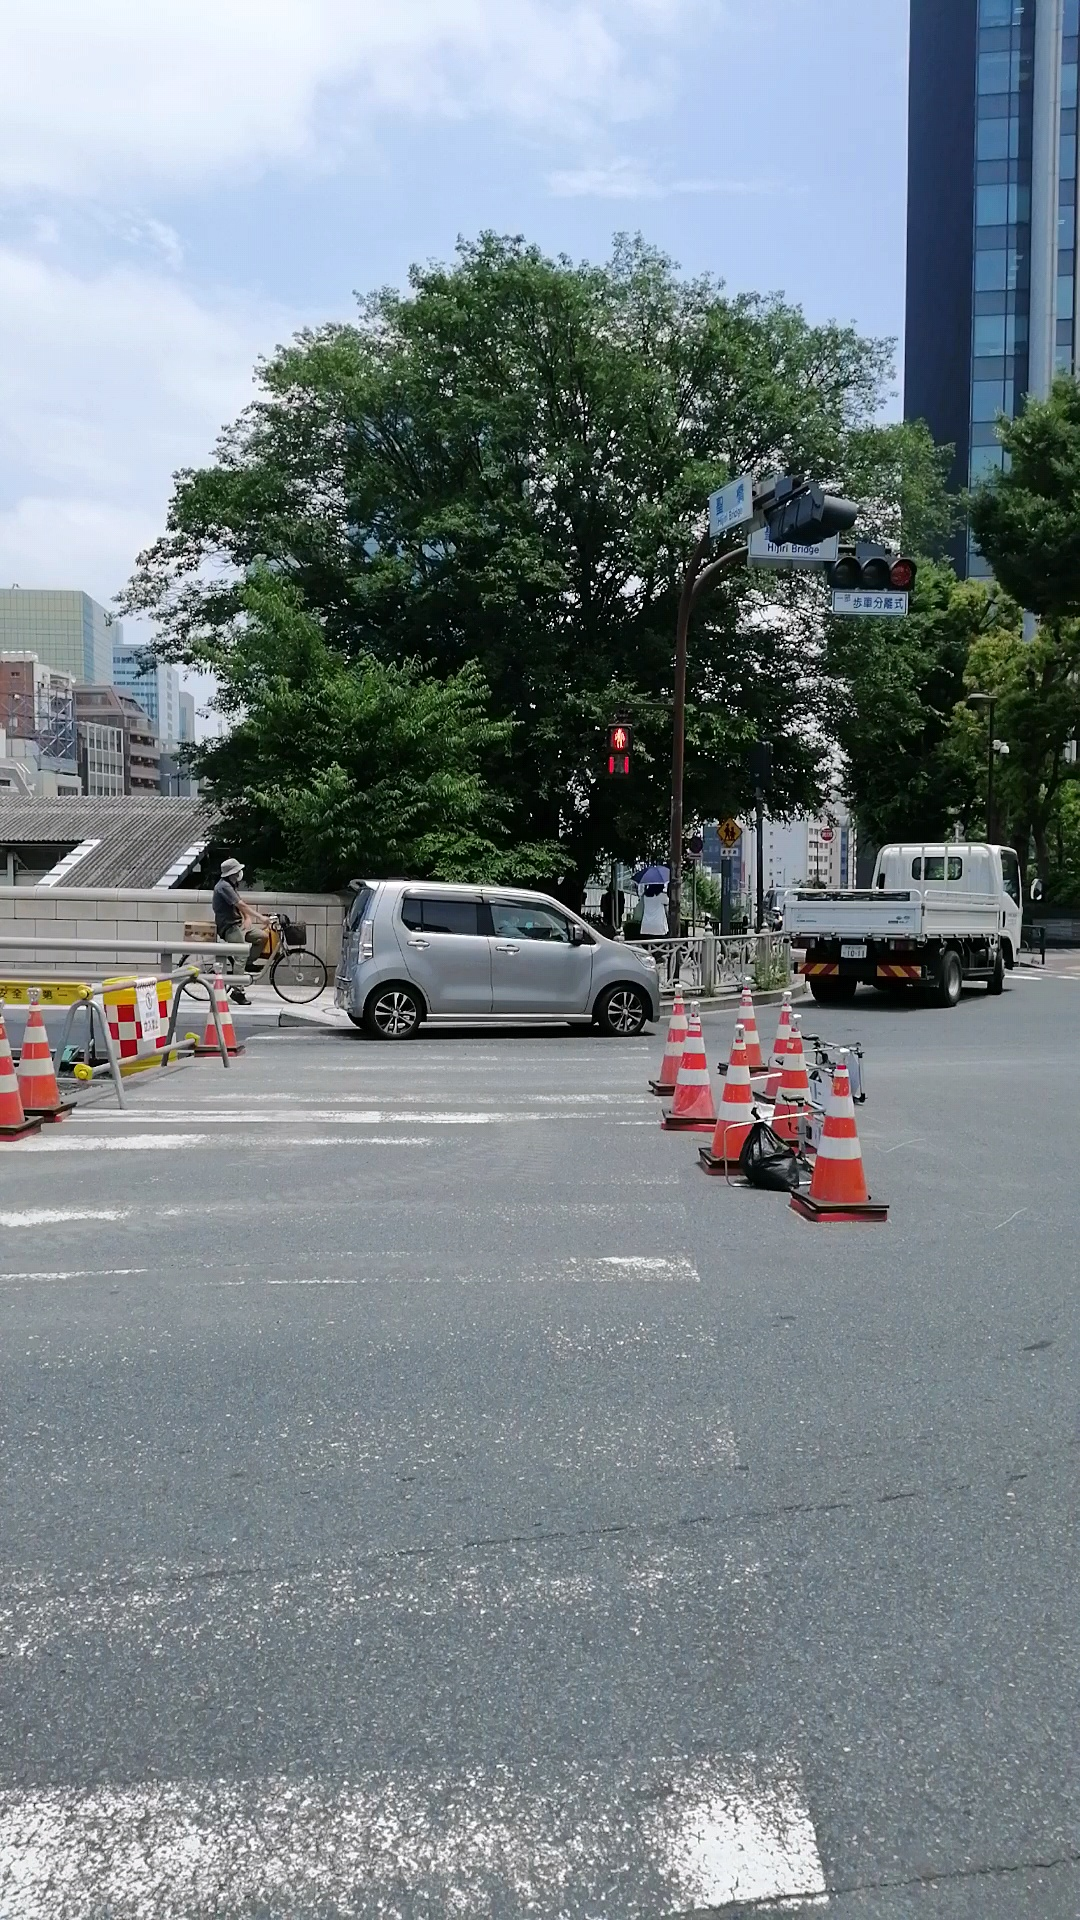red: (603, 723, 632, 779)
